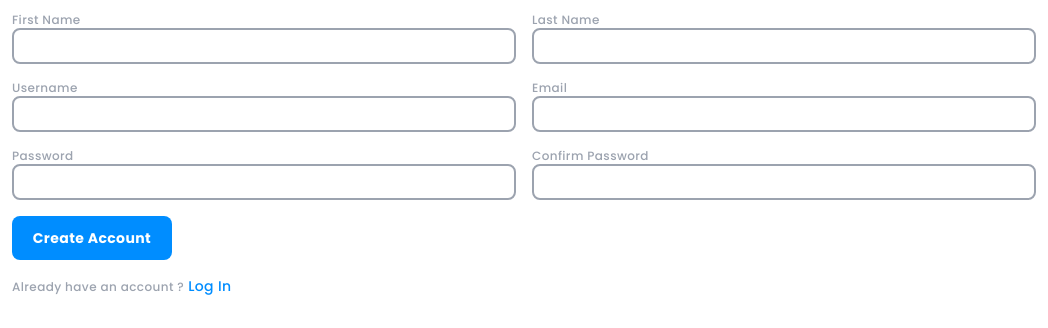
Test: signUpForm component › should render error message when authentication fails
The width and height of the screenshot is (1048, 328).
In the field labelled "First Name": (264, 46) [12,28,516,64], type "Ashish"
In the field labelled "Last Name": (784, 46) [532,28,1036,64], type "Ranjan"
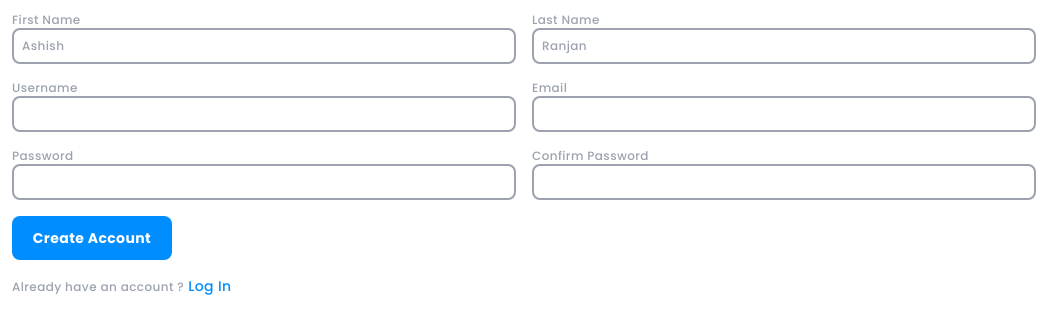
In the field labelled "Username": (264, 114) [12,96,516,132], type "ashishranjan001"
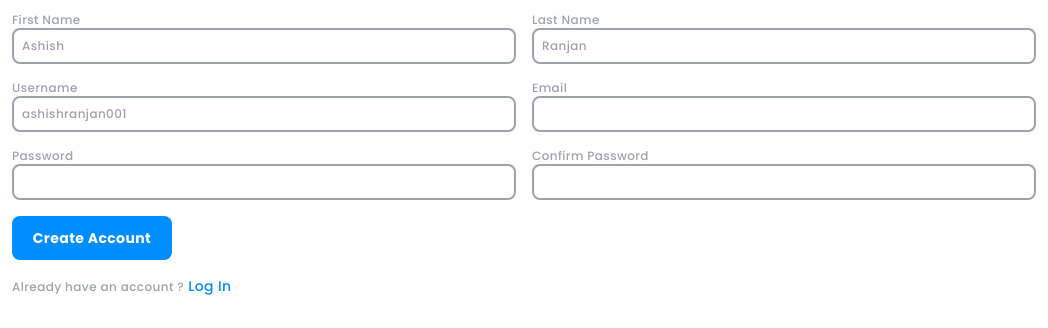
In the field labelled "Email": (784, 114) [532,96,1036,132], type "testuser7416@gmail.com"
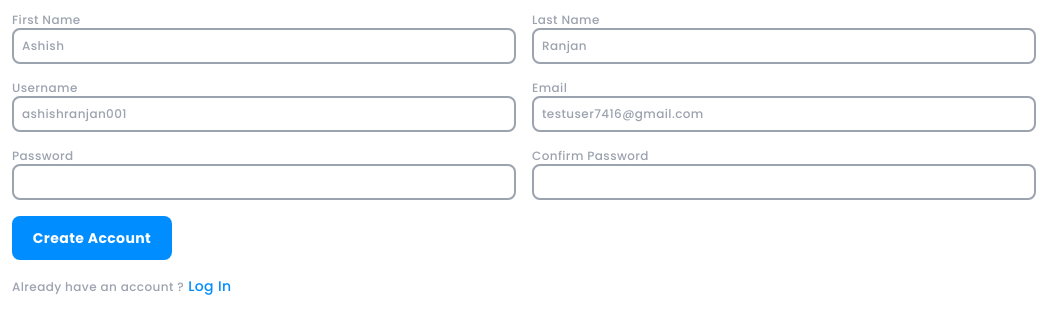
In the password field labelled "Password": (264, 182) [12,164,516,200], type "12345678"
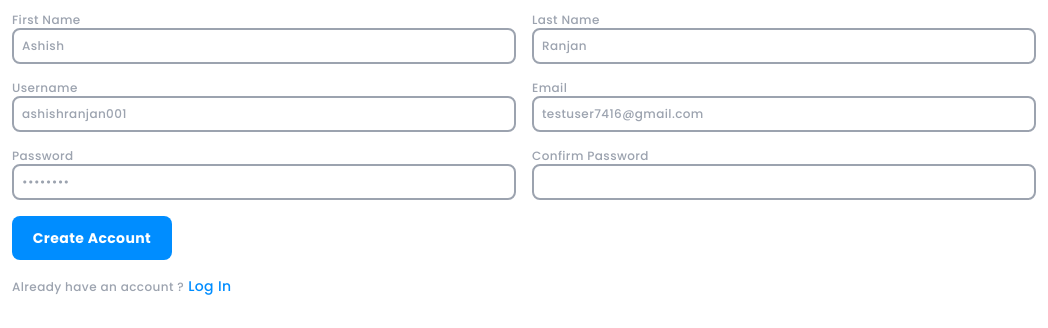
In the password field labelled "Confirm Password": (784, 182) [532,164,1036,200], type "12345678"
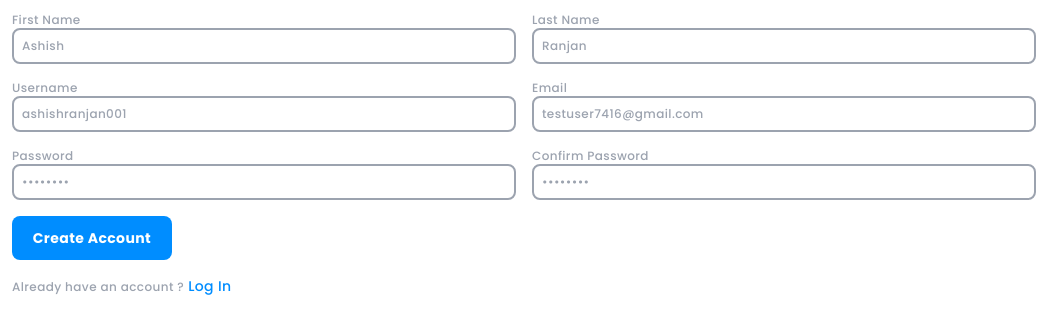
Click the button "Create Account": (92, 238) [12,216,172,260]
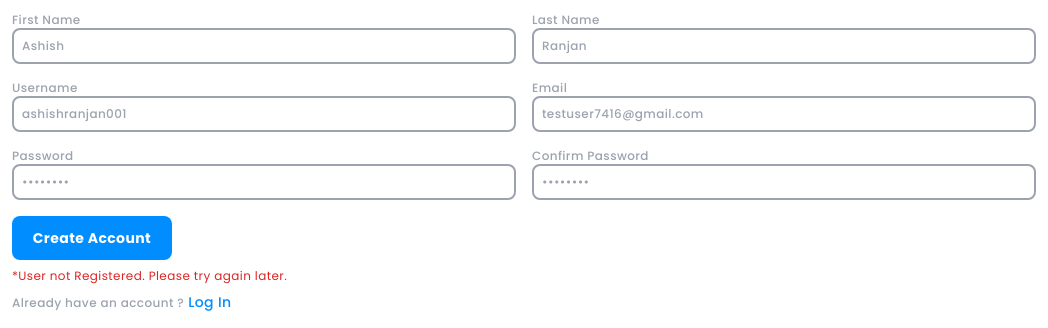
expect the text "*User not Registered. Please try again later." is shown: met, box [12,267,287,284]
